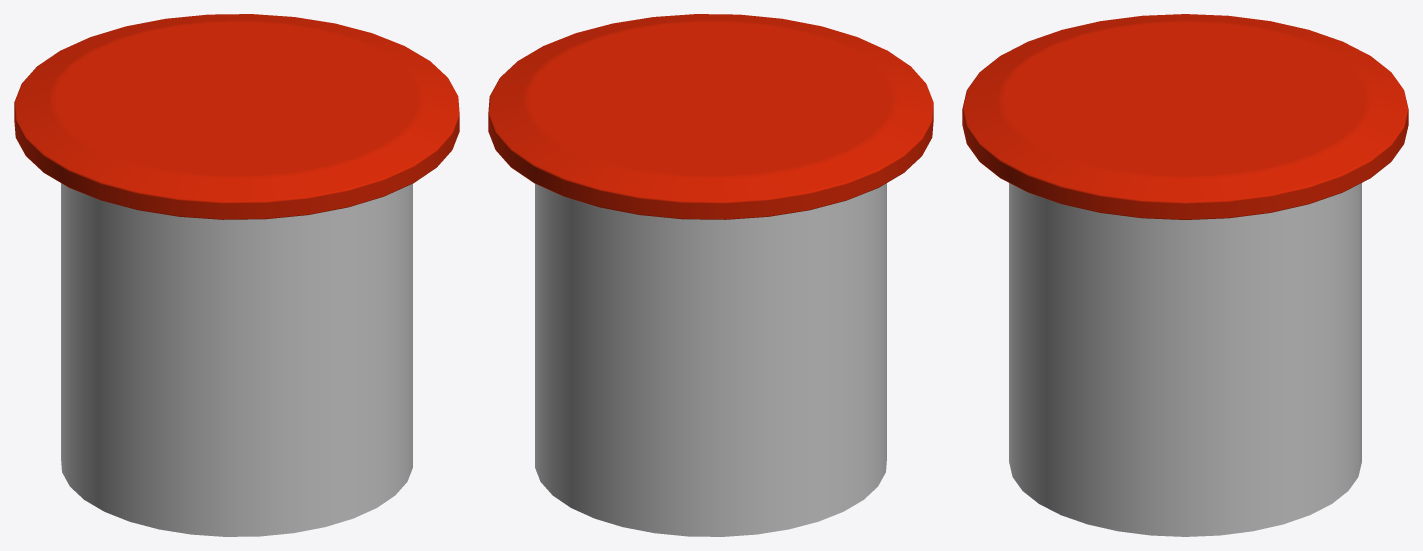
Rendered from universalPodium.fbx.
The picture shows the model from 3 angles, left to right: view 1: azimuth 30°, elevation 25°; view 2: azimuth 150°, elevation 25°; view 3: azimuth 270°, elevation 25°; orthographic projection.
Visible parts, largest first — view 1: 1_high; view 2: 1_high; view 3: 1_high.
Part boxes in pixels (left/top/right/bottom): 1_high: left=14, top=14, right=459, bottom=536; 1_high: left=488, top=14, right=933, bottom=536; 1_high: left=962, top=14, right=1408, bottom=536.
Bounding box in the file's own units: 463 × 416 × 463.
